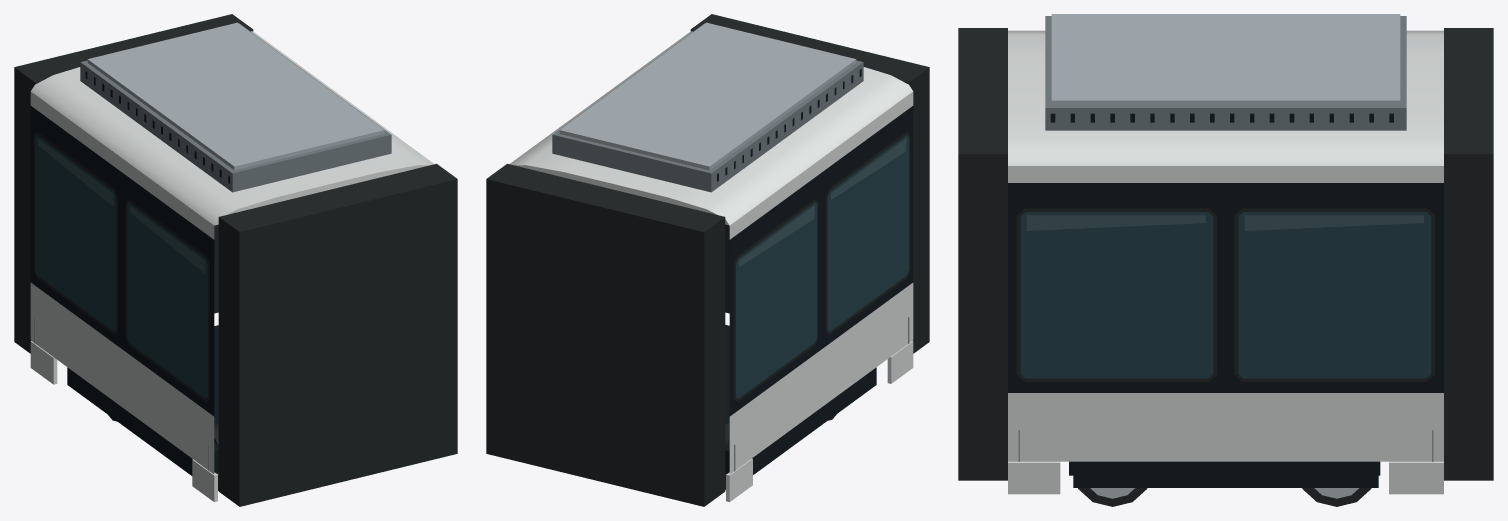
File: 52t-b-viewer.glb
3 renders of one model, left to right at view 1: azimuth 30°, elevation 25°; view 2: azimuth 150°, elevation 25°; view 3: azimuth 270°, elevation 25°, orthographic. The views are drawn at different scales.
Parts seen in each view (by area): view 1: 52t-b; view 2: 52t-b; view 3: 52t-b.
Boxes of the visible parts, box(x1,y1,x2,y2) form: 52t-b: box(14, 14, 457, 506); 52t-b: box(486, 14, 929, 506); 52t-b: box(958, 14, 1493, 506).
Bounding box in the file's own units: 2.52 × 3.59 × 4.3.
